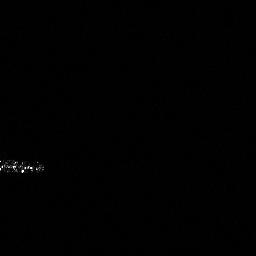ship: (1, 158, 47, 175)
